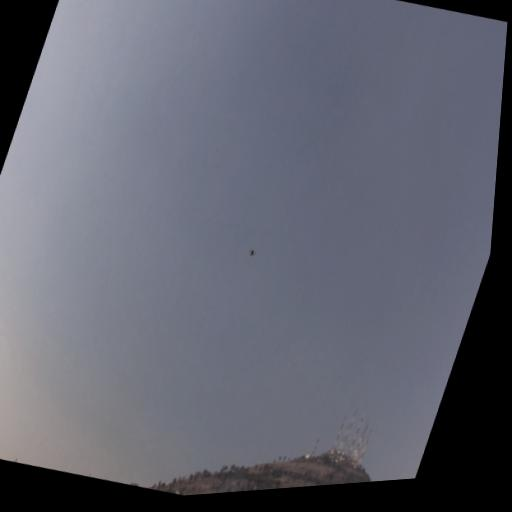drones: (246, 246, 259, 260)
